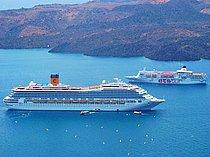Ship: (4, 73, 169, 115), (121, 65, 210, 87)
